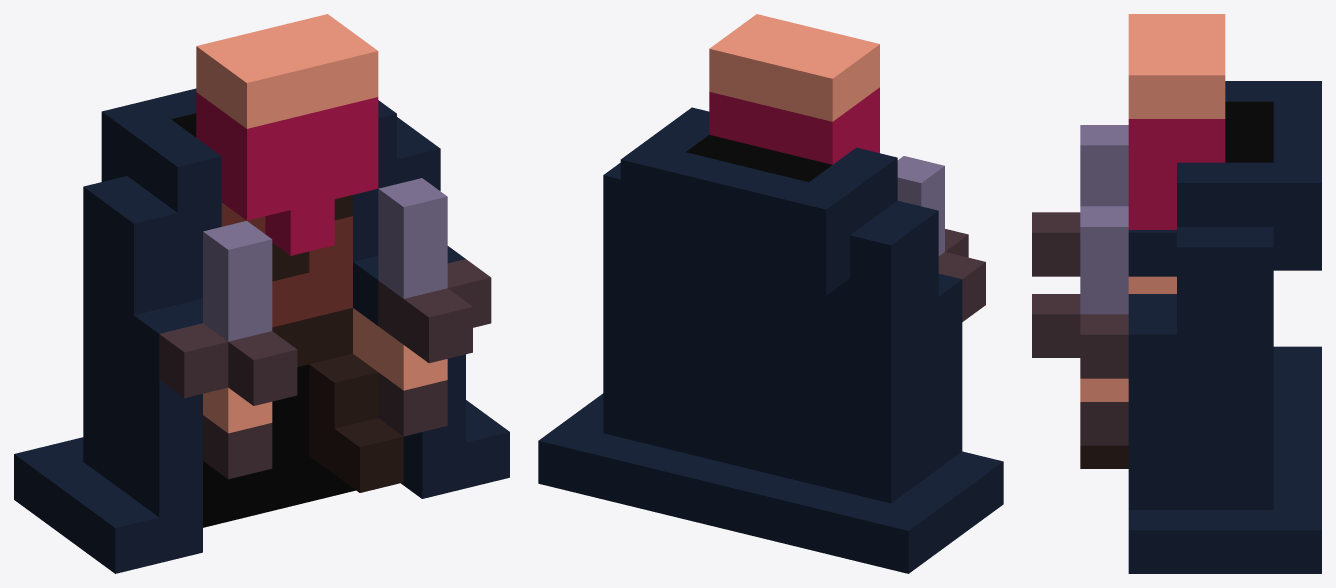
The model's file is rogue_walk_1.obj.
3 views of the same model, side by side, from view 1: azimuth 30°, elevation 25°; view 2: azimuth 150°, elevation 25°; view 3: azimuth 270°, elevation 25° (orthographic). The views are drawn at different scales.
Bounding box in the file's own units: 0.9 × 1 × 0.6.
Materials: 1 (1 with a texture image).
